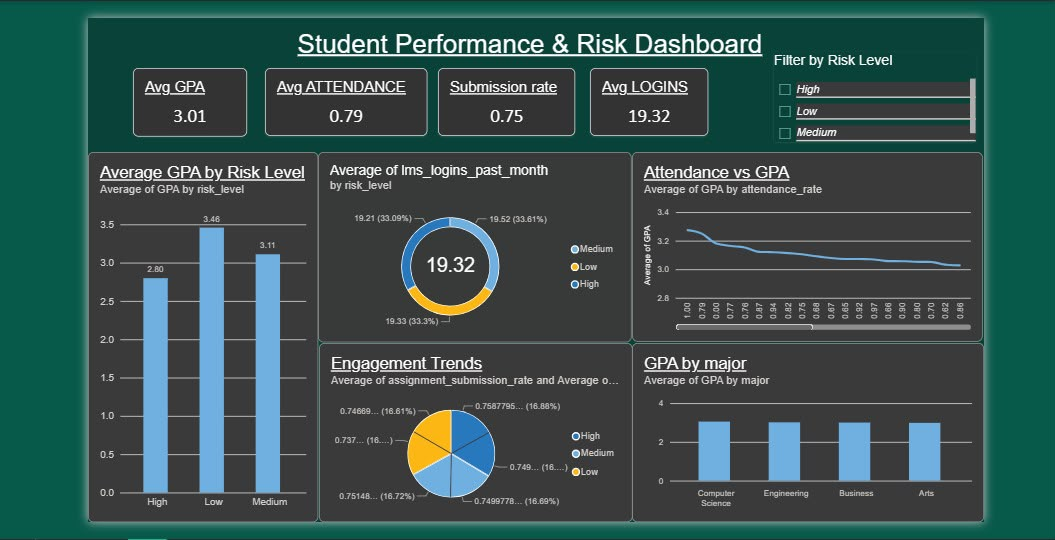

What the dashboard file says about the page in this screenshot:
{"tool":"powerbi","page":{"name":"Page 1","canvas":[1280,720],"ordinal":0},"visuals":[{"type":"columnChart","title":"Average GPA by Risk Level","fields":{"Category":["cleaned_student_data.risk_level"],"Y":["Avg(cleaned_student_data.GPA)"]},"box":[0,191.4,328.7,528.6],"z":0},{"type":"donutChart","fields":{"Category":["cleaned_student_data.risk_level"],"Y":["Avg(cleaned_student_data.lms_logins_past_month)"]},"box":[328.6,191.4,448,272],"z":1000},{"type":"clusteredColumnChart","title":"GPA by major","fields":{"Category":["cleaned_student_data.major"],"Y":["Avg(Cleaned_Student_Data.GPA)"]},"box":[777.1,464.3,502.9,255.7],"z":2000},{"type":"lineChart","title":"Attendance vs GPA","fields":{"Category":["Sum(cleaned_student_data.attendance_rate)"],"Y":["Avg(Cleaned_Student_Data.GPA)"]},"box":[776.6,190.2,501.4,272.9],"z":3000},{"type":"pieChart","title":"Engagement Trends","fields":{"Category":["cleaned_student_data.risk_level"],"Y":["Avg(cleaned_student_data.assignment_submission_rate)","Avg(cleaned_student_data.video_completion_rate)"]},"box":[330,464.3,448,256],"z":4000},{"type":"card","title":"Avg GPA","fields":{"Values":["Avg(cleaned_student_data.GPA)"]},"box":[63.8,71,162.5,97.5],"z":5000},{"type":"textbox","box":[272,16,720,64],"z":6000},{"type":"card","title":"Avg ATTENDANCE","fields":{"Values":["Avg(cleaned_student_data.attendance_rate)"]},"box":[253.2,71,231.9,97],"z":7000},{"type":"card","title":"Avg LOGINS","fields":{"Values":["Avg(cleaned_student_data.lms_logins_past_month)"]},"box":[717.1,71.4,169.2,97],"z":8000},{"type":"card","title":"Submission rate","fields":{"Values":["Avg(cleaned_student_data.assignment_submission_rate)"]},"box":[500.4,71,196.4,97],"z":9000},{"type":"slicer","title":"Filter by Risk Level","fields":{"Values":["cleaned_student_data.risk_level"]},"box":[976.5,48.2,287.8,127.6],"z":10000}]}

Visuals, with their boxes on the page's 1280x720 design canvas (x1, y1, x2, y2). These are canvas units, not pixel positions in the 1055x540 screenshot, which may show the page scaled, cropped or inside an application window:
"Average GPA by Risk Level" columnChart: 0,191,329,720
donutChart - cleaned_student_data.risk_level x Avg(cleaned_student_data.lms_logins_past_month): 329,191,777,463
"GPA by major" clusteredColumnChart: 777,464,1280,720
"Attendance vs GPA" lineChart: 777,190,1278,463
"Engagement Trends" pieChart: 330,464,778,720
"Avg GPA" card: 64,71,226,168
textbox: 272,16,992,80
"Avg ATTENDANCE" card: 253,71,485,168
"Avg LOGINS" card: 717,71,886,168
"Submission rate" card: 500,71,697,168
"Filter by Risk Level" slicer: 976,48,1264,176
